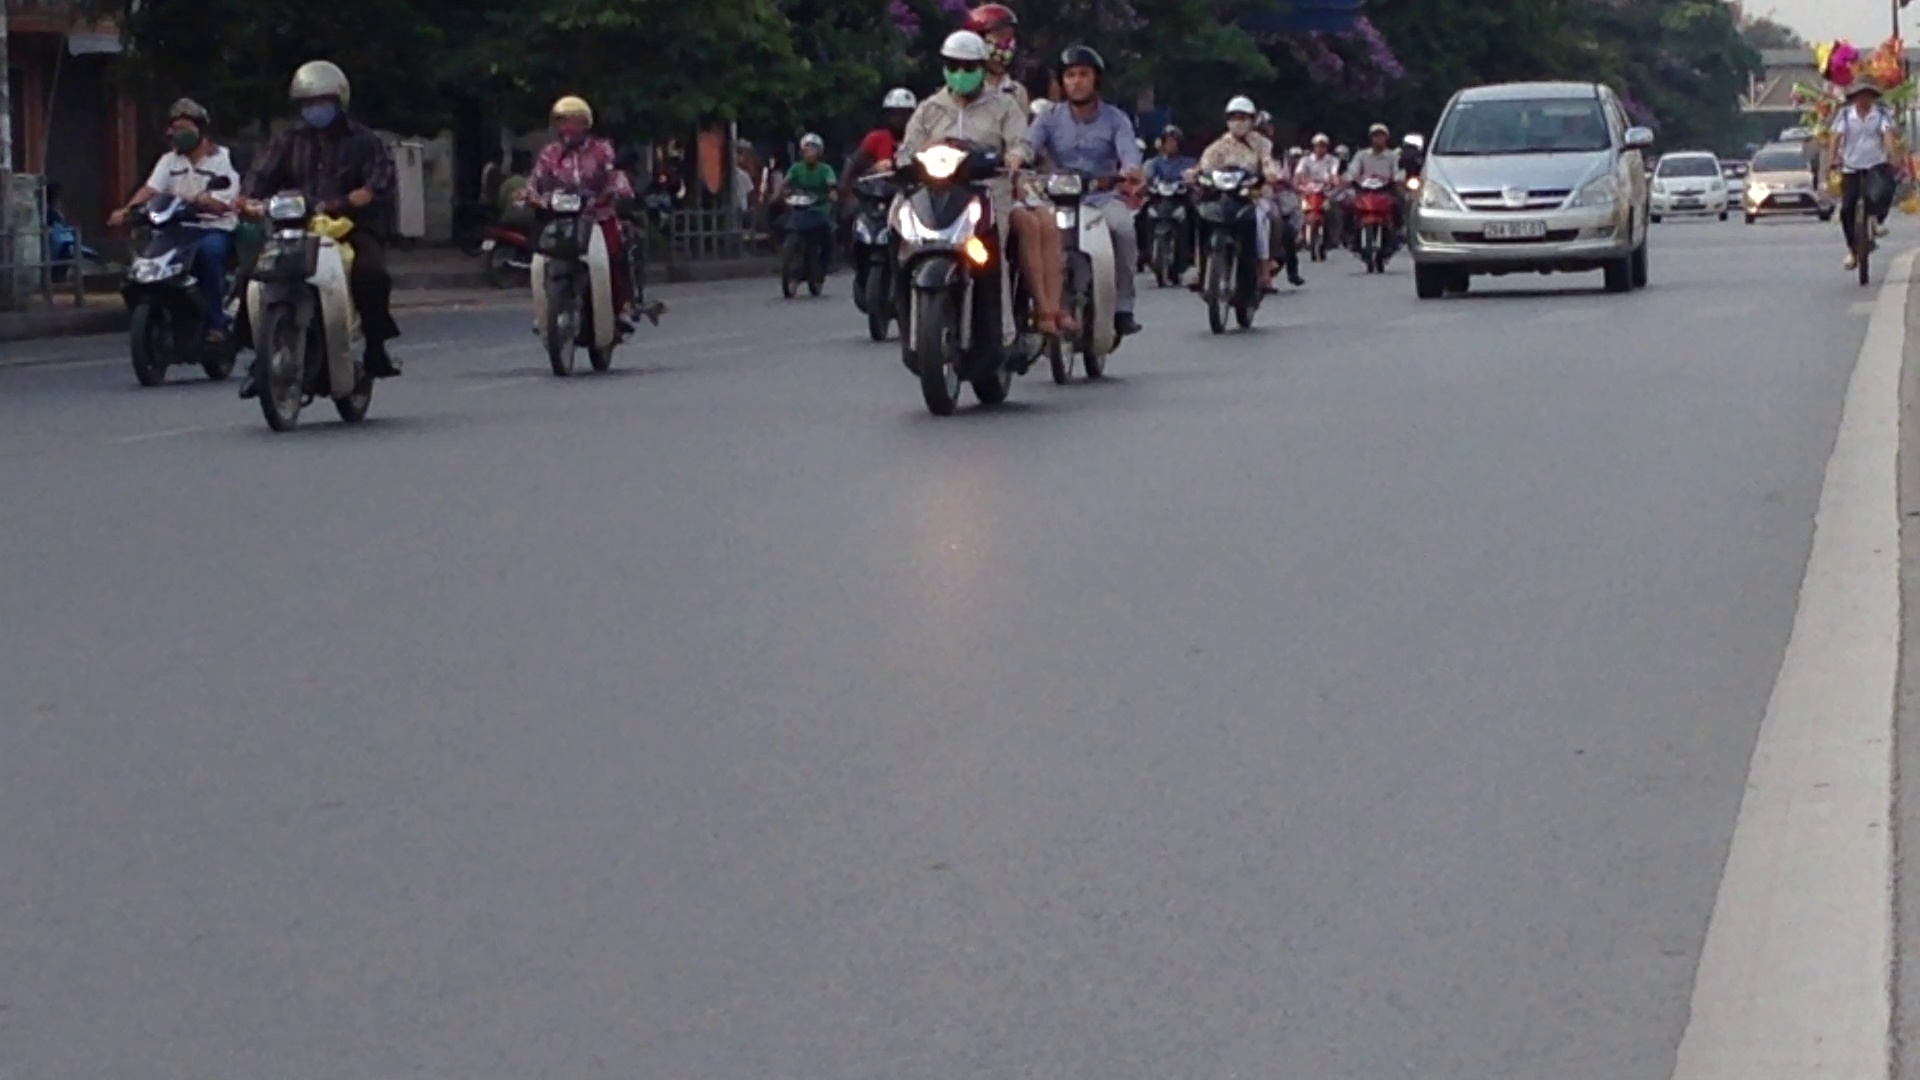person: (1479, 217, 1552, 240)
